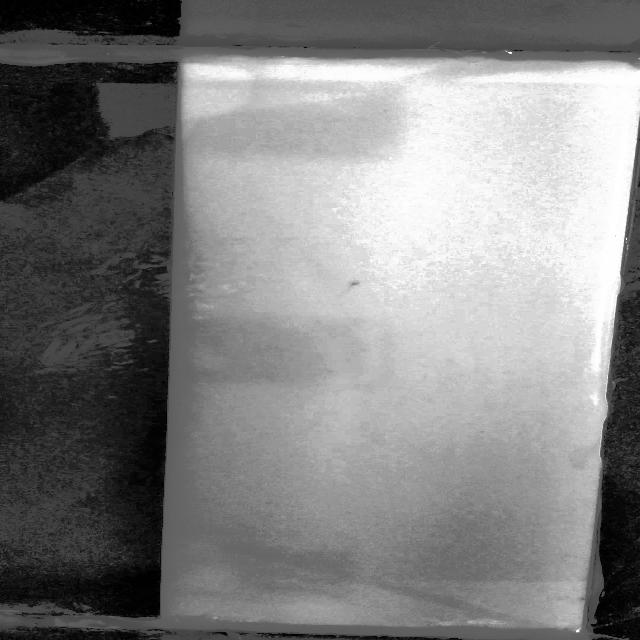shrimp: (326, 270, 378, 294)
